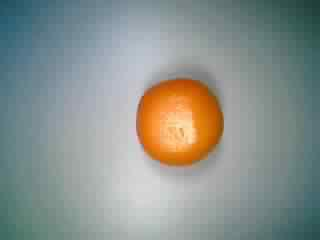orange: (132, 74, 227, 168)
